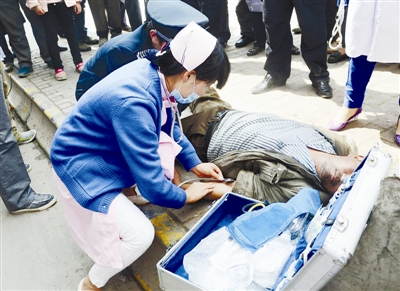10+: (1, 1, 400, 291)
down: (153, 69, 379, 228)
